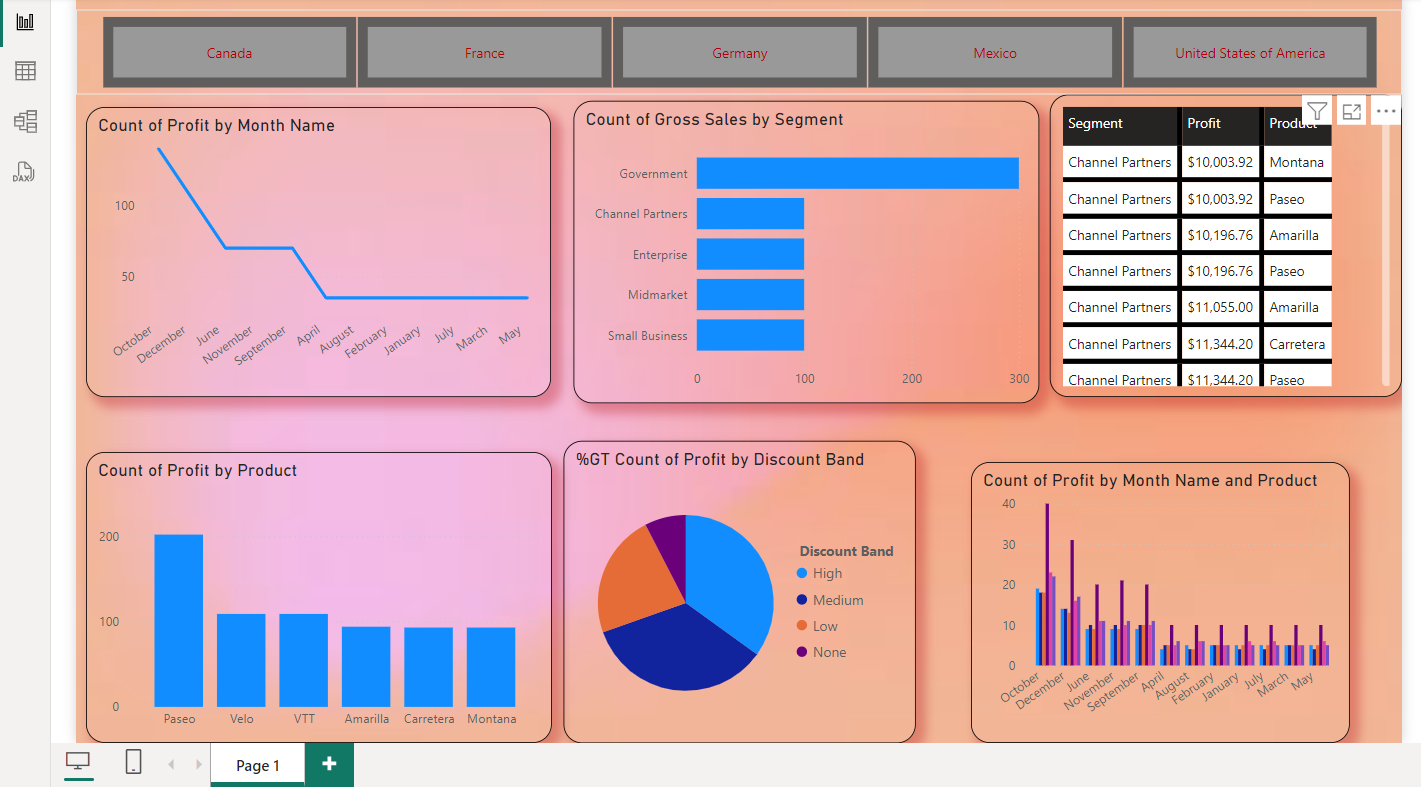

This screenshot's page, from the dashboard's own definition file:
{"tool":"powerbi","page":{"name":"Page 1","canvas":[1280,720],"ordinal":0},"visuals":[{"type":"lineChart","fields":{"Category":["Financials. Month Name "],"Y":["CountNonNull(Financials. Profit )"]},"box":[9.6,106.1,448.6,279.8],"z":0},{"type":"columnChart","fields":{"Category":["Financials. Product "],"Y":["CountNonNull(Financials. Profit )"]},"box":[9.6,439,449.8,281],"z":1000},{"type":"barChart","fields":{"Category":["Financials.Segment"],"Y":["CountNonNull(Financials. Gross Sales )"]},"box":[480,100.1,449.8,291.9],"z":2000},{"type":"pieChart","fields":{"Category":["Financials. Discount Band "],"Y":["CountNonNull(Financials. Profit )"]},"box":[470.4,428.1,340.1,291.9],"z":3000},{"type":"tableEx","fields":{"Values":["Financials.Segment","Financials. Profit ","Financials. Product "]},"box":[939.5,94.1,340.1,291.9],"z":4000},{"type":"clusteredColumnChart","fields":{"Category":["Financials. Month Name "],"Y":["CountNonNull(Financials. Profit )"],"Series":["Financials. Product "]},"box":[863.5,448.6,365.4,271.4],"z":5000},{"type":"slicer","fields":{"Values":["Financials.Country"]},"box":[0,12.1,1279.6,82],"z":5001}]}

Visuals, with their boxes in screenshot pixels (x1, y1, x2, y2):
lineChart - Financials. Month Name  x CountNonNull(Financials. Profit ): bbox=[77, 99, 544, 391]
columnChart - Financials. Product  x CountNonNull(Financials. Profit ): bbox=[77, 446, 545, 739]
barChart - Financials.Segment x CountNonNull(Financials. Gross Sales ): bbox=[566, 93, 1035, 397]
pieChart - Financials. Discount Band  x CountNonNull(Financials. Profit ): bbox=[556, 435, 911, 739]
tableEx - Financials.Segment x Financials. Profit : bbox=[1045, 87, 1399, 391]
clusteredColumnChart - Financials. Month Name  x CountNonNull(Financials. Profit ): bbox=[966, 456, 1346, 739]
slicer - Financials.Country: bbox=[67, 2, 1399, 87]
